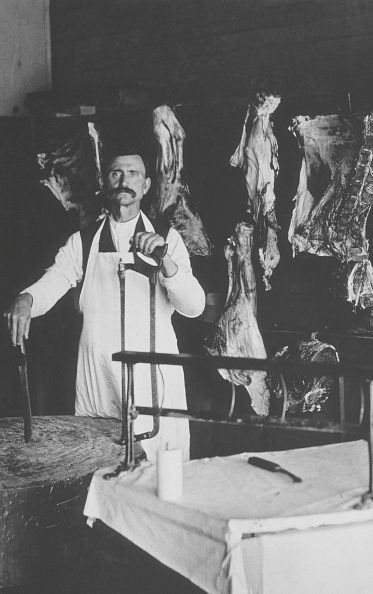em pe: (4, 126, 203, 447)
